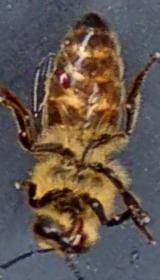varroa_mite: (42, 58, 77, 95)
